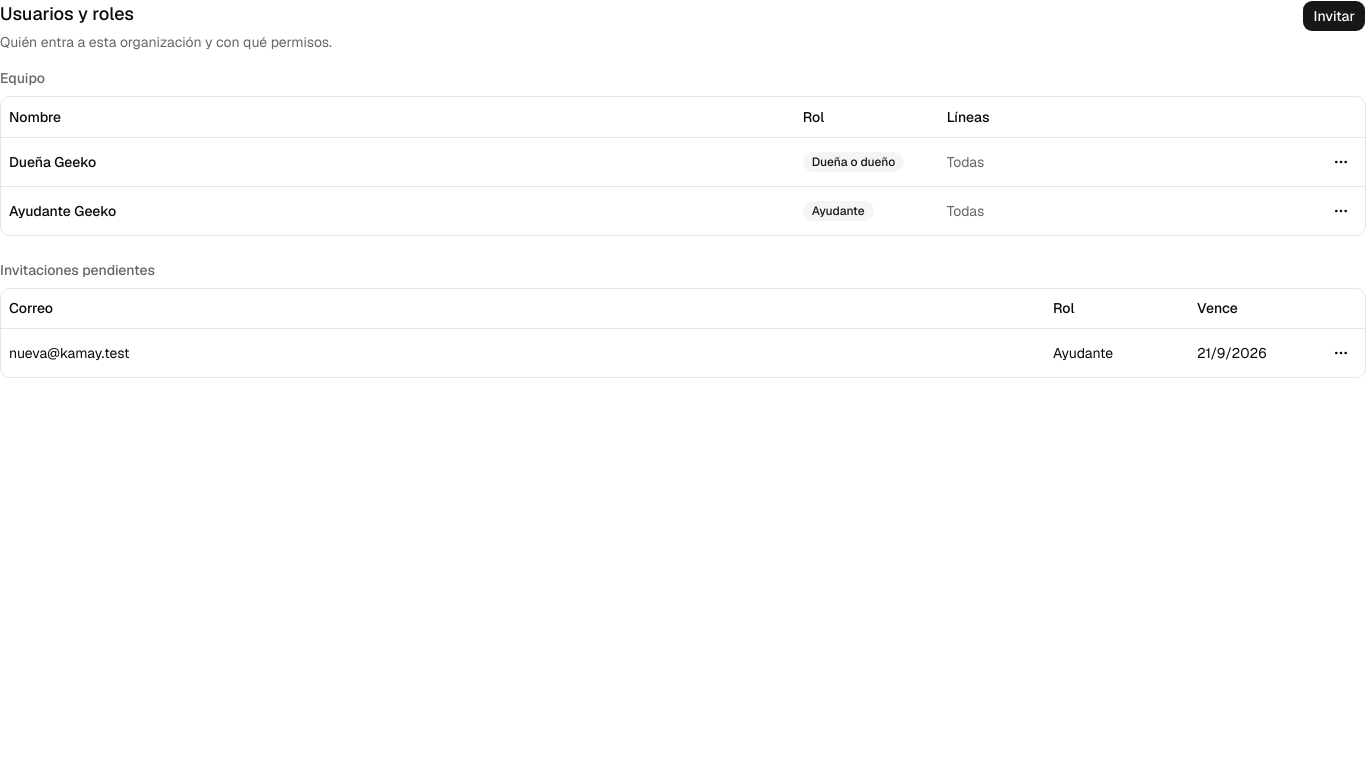
Test: MembersSection › editar a un ayudante y marcar solo Alfarería guarda esa línea sin tocar el rol
The width and height of the screenshot is (1366, 768).
Click the button named "Acciones de Ayudante Geeko" at (1341, 210), box [1325,194,1357,226]
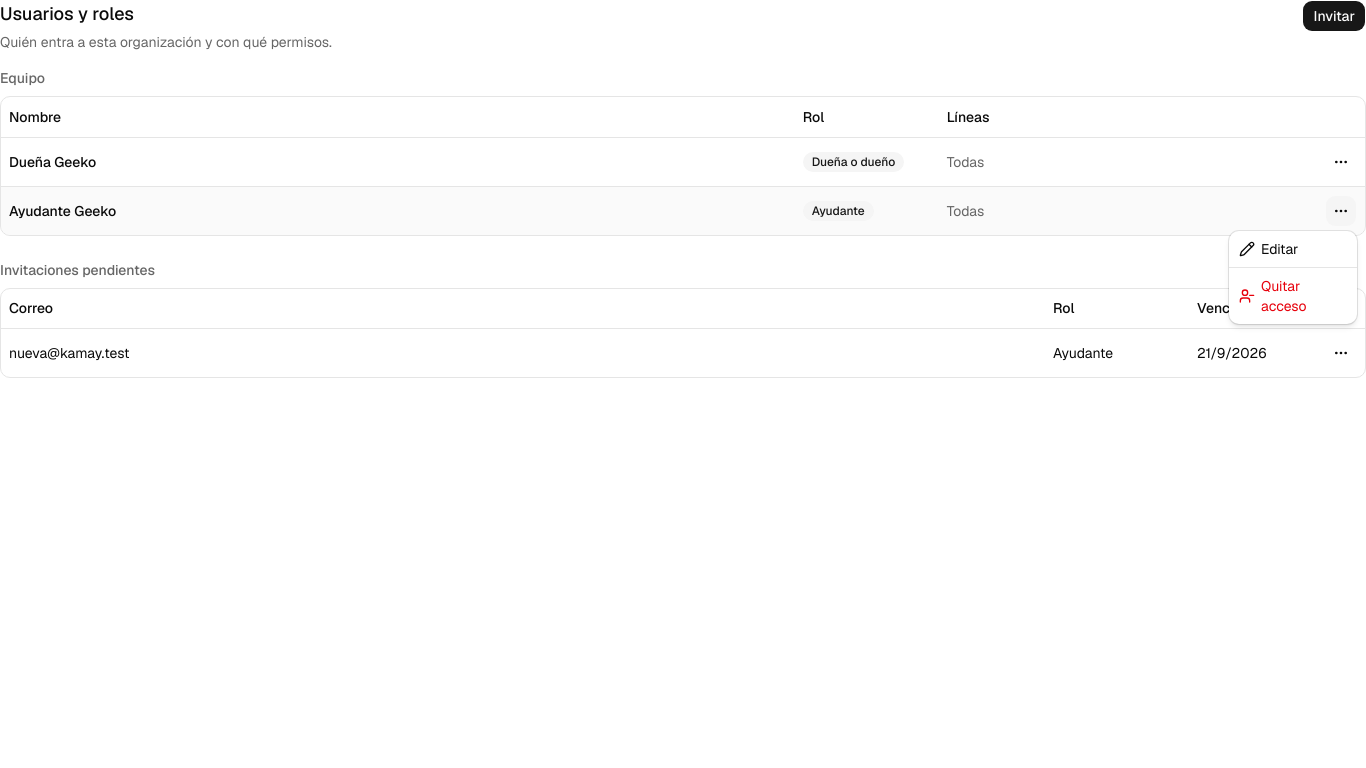
Click the menu item "Editar" at (1269, 249), box [1239,240,1298,258]
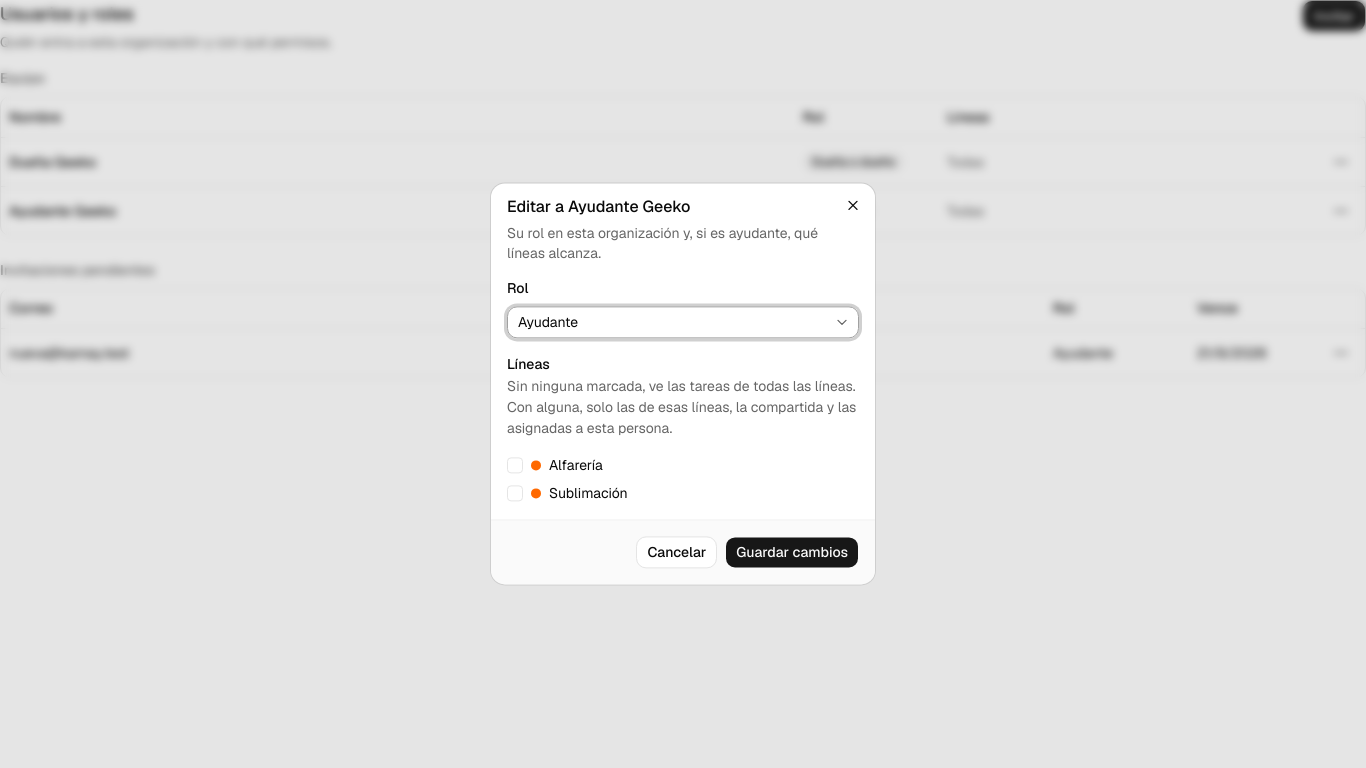
Now the dialog "Editar a Ayudante Geeko" shows "Sin ninguna marcada, ve las tareas de todas las líneas.", box [507,378,856,438]
Click the checkbox named "Alfarería para Ayudante Geeko" at (515, 466), box [507,458,523,474]
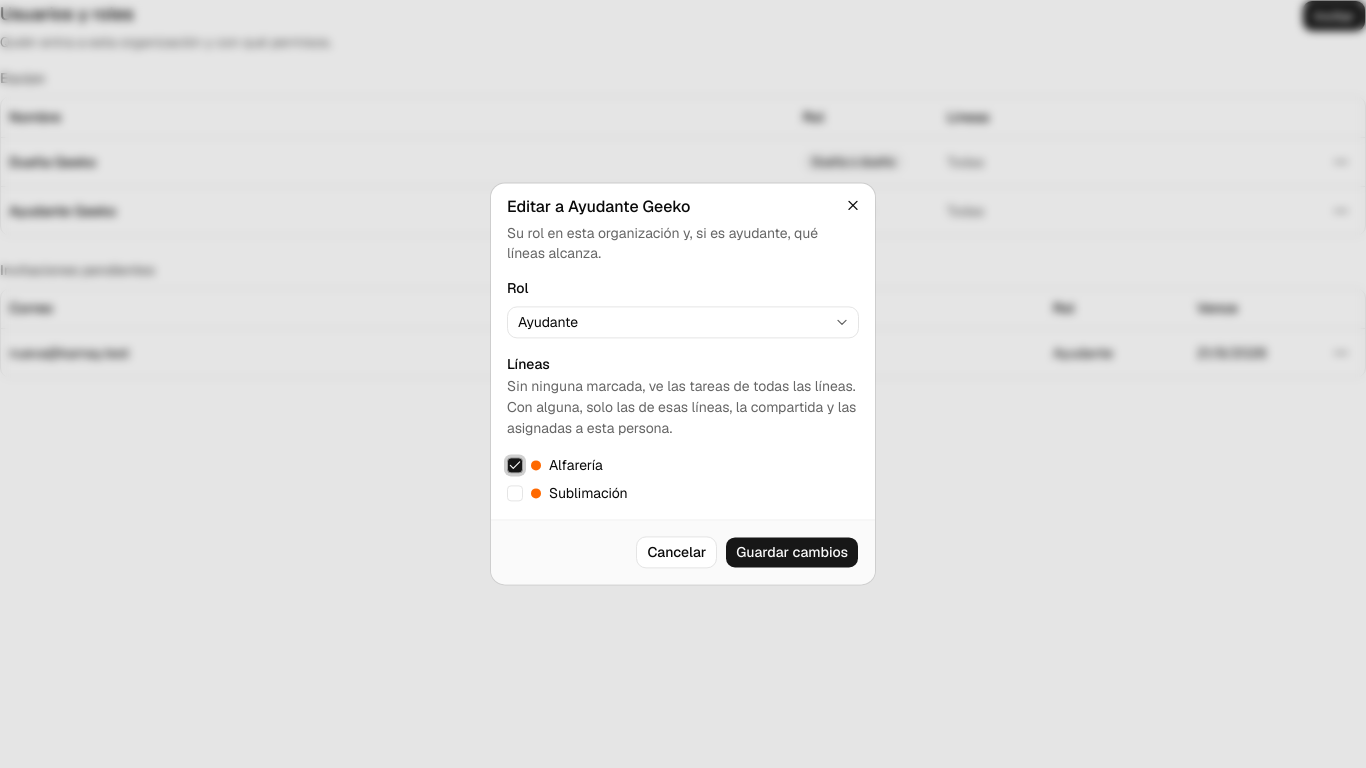
Click the button "Guardar cambios" at (792, 553), box [725,537,859,569]
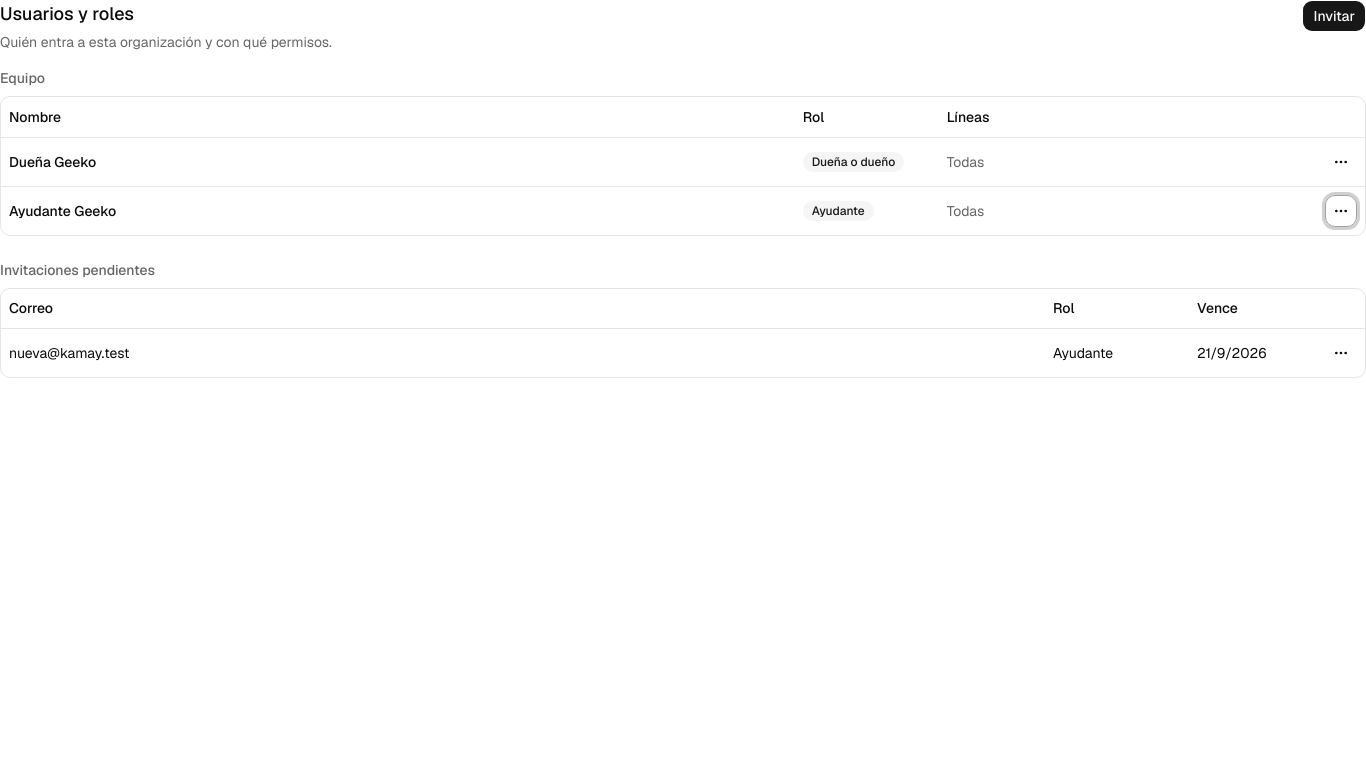
Now the dialog is gone
